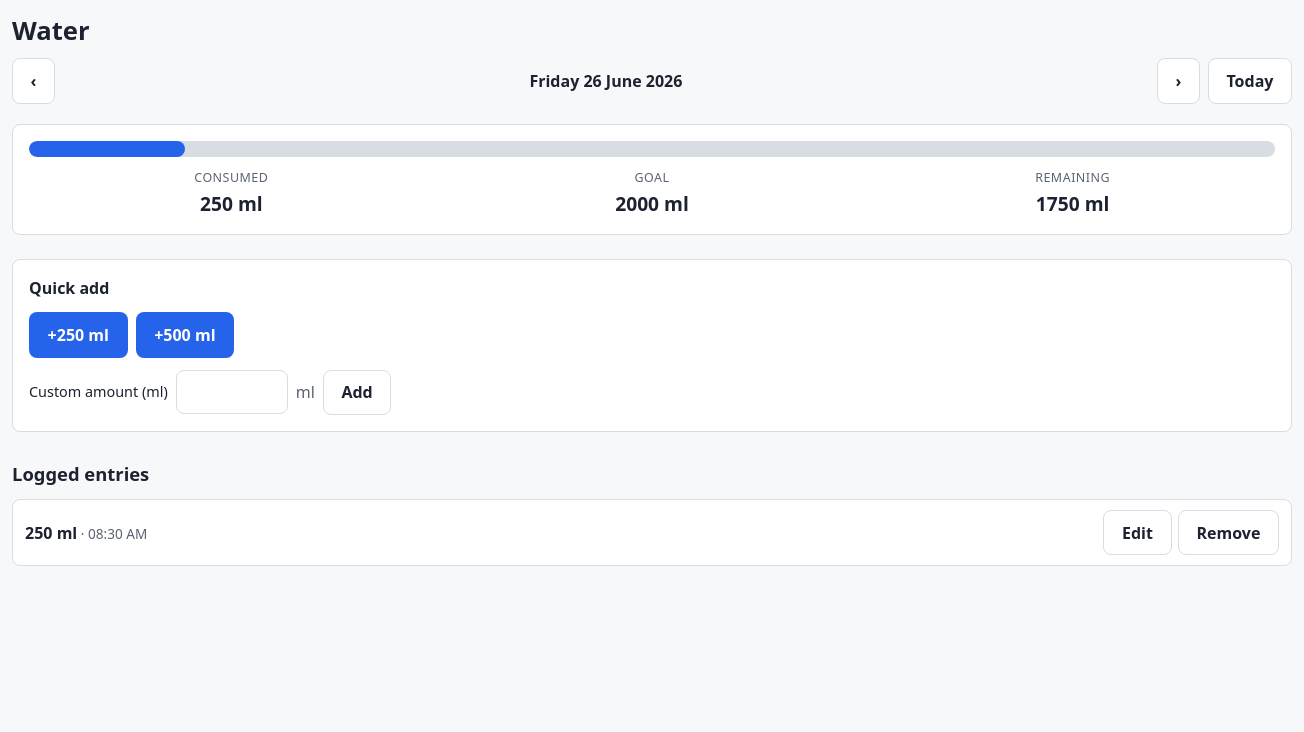
WaterPage › surfaces a ProblemDetails validation error from a failed add
Step 1. Click the button named "Add 500 ml" → (185,335), box 136,312 -> 234,358
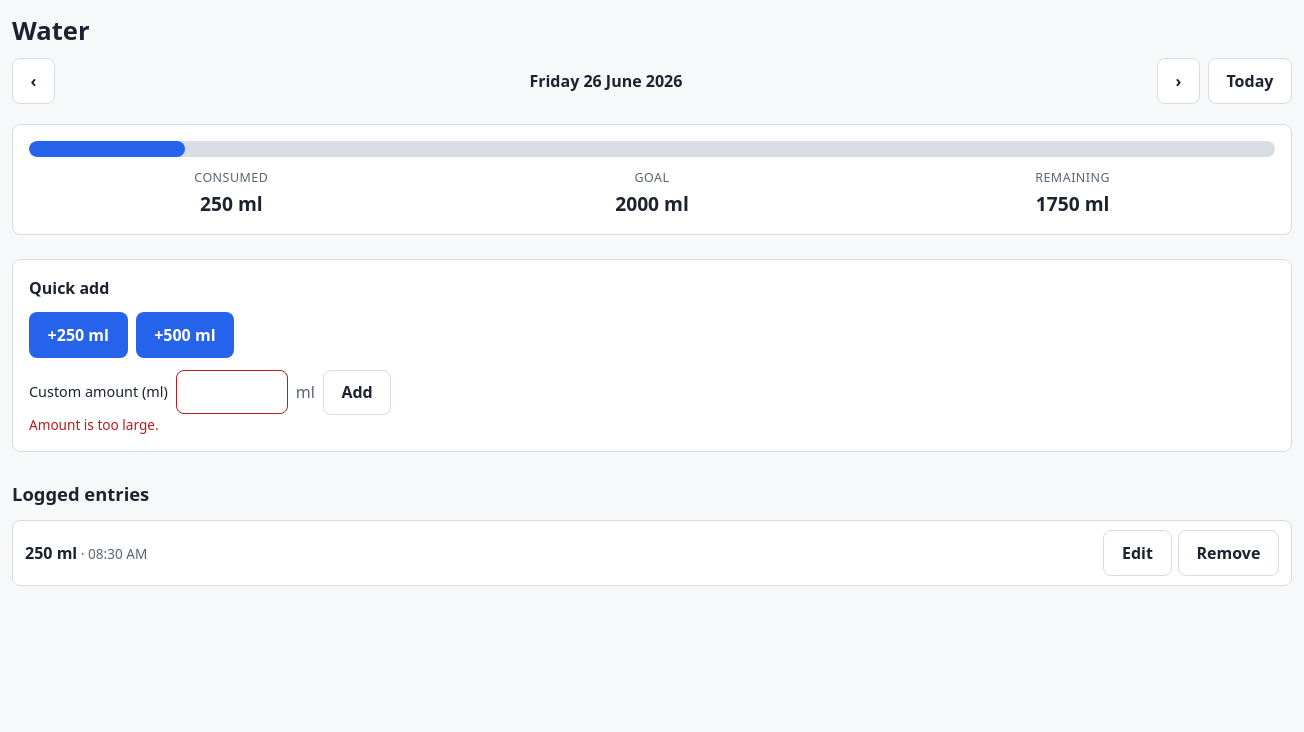
Check: the text "Amount is too large." is shown, box 29,415 -> 159,434
